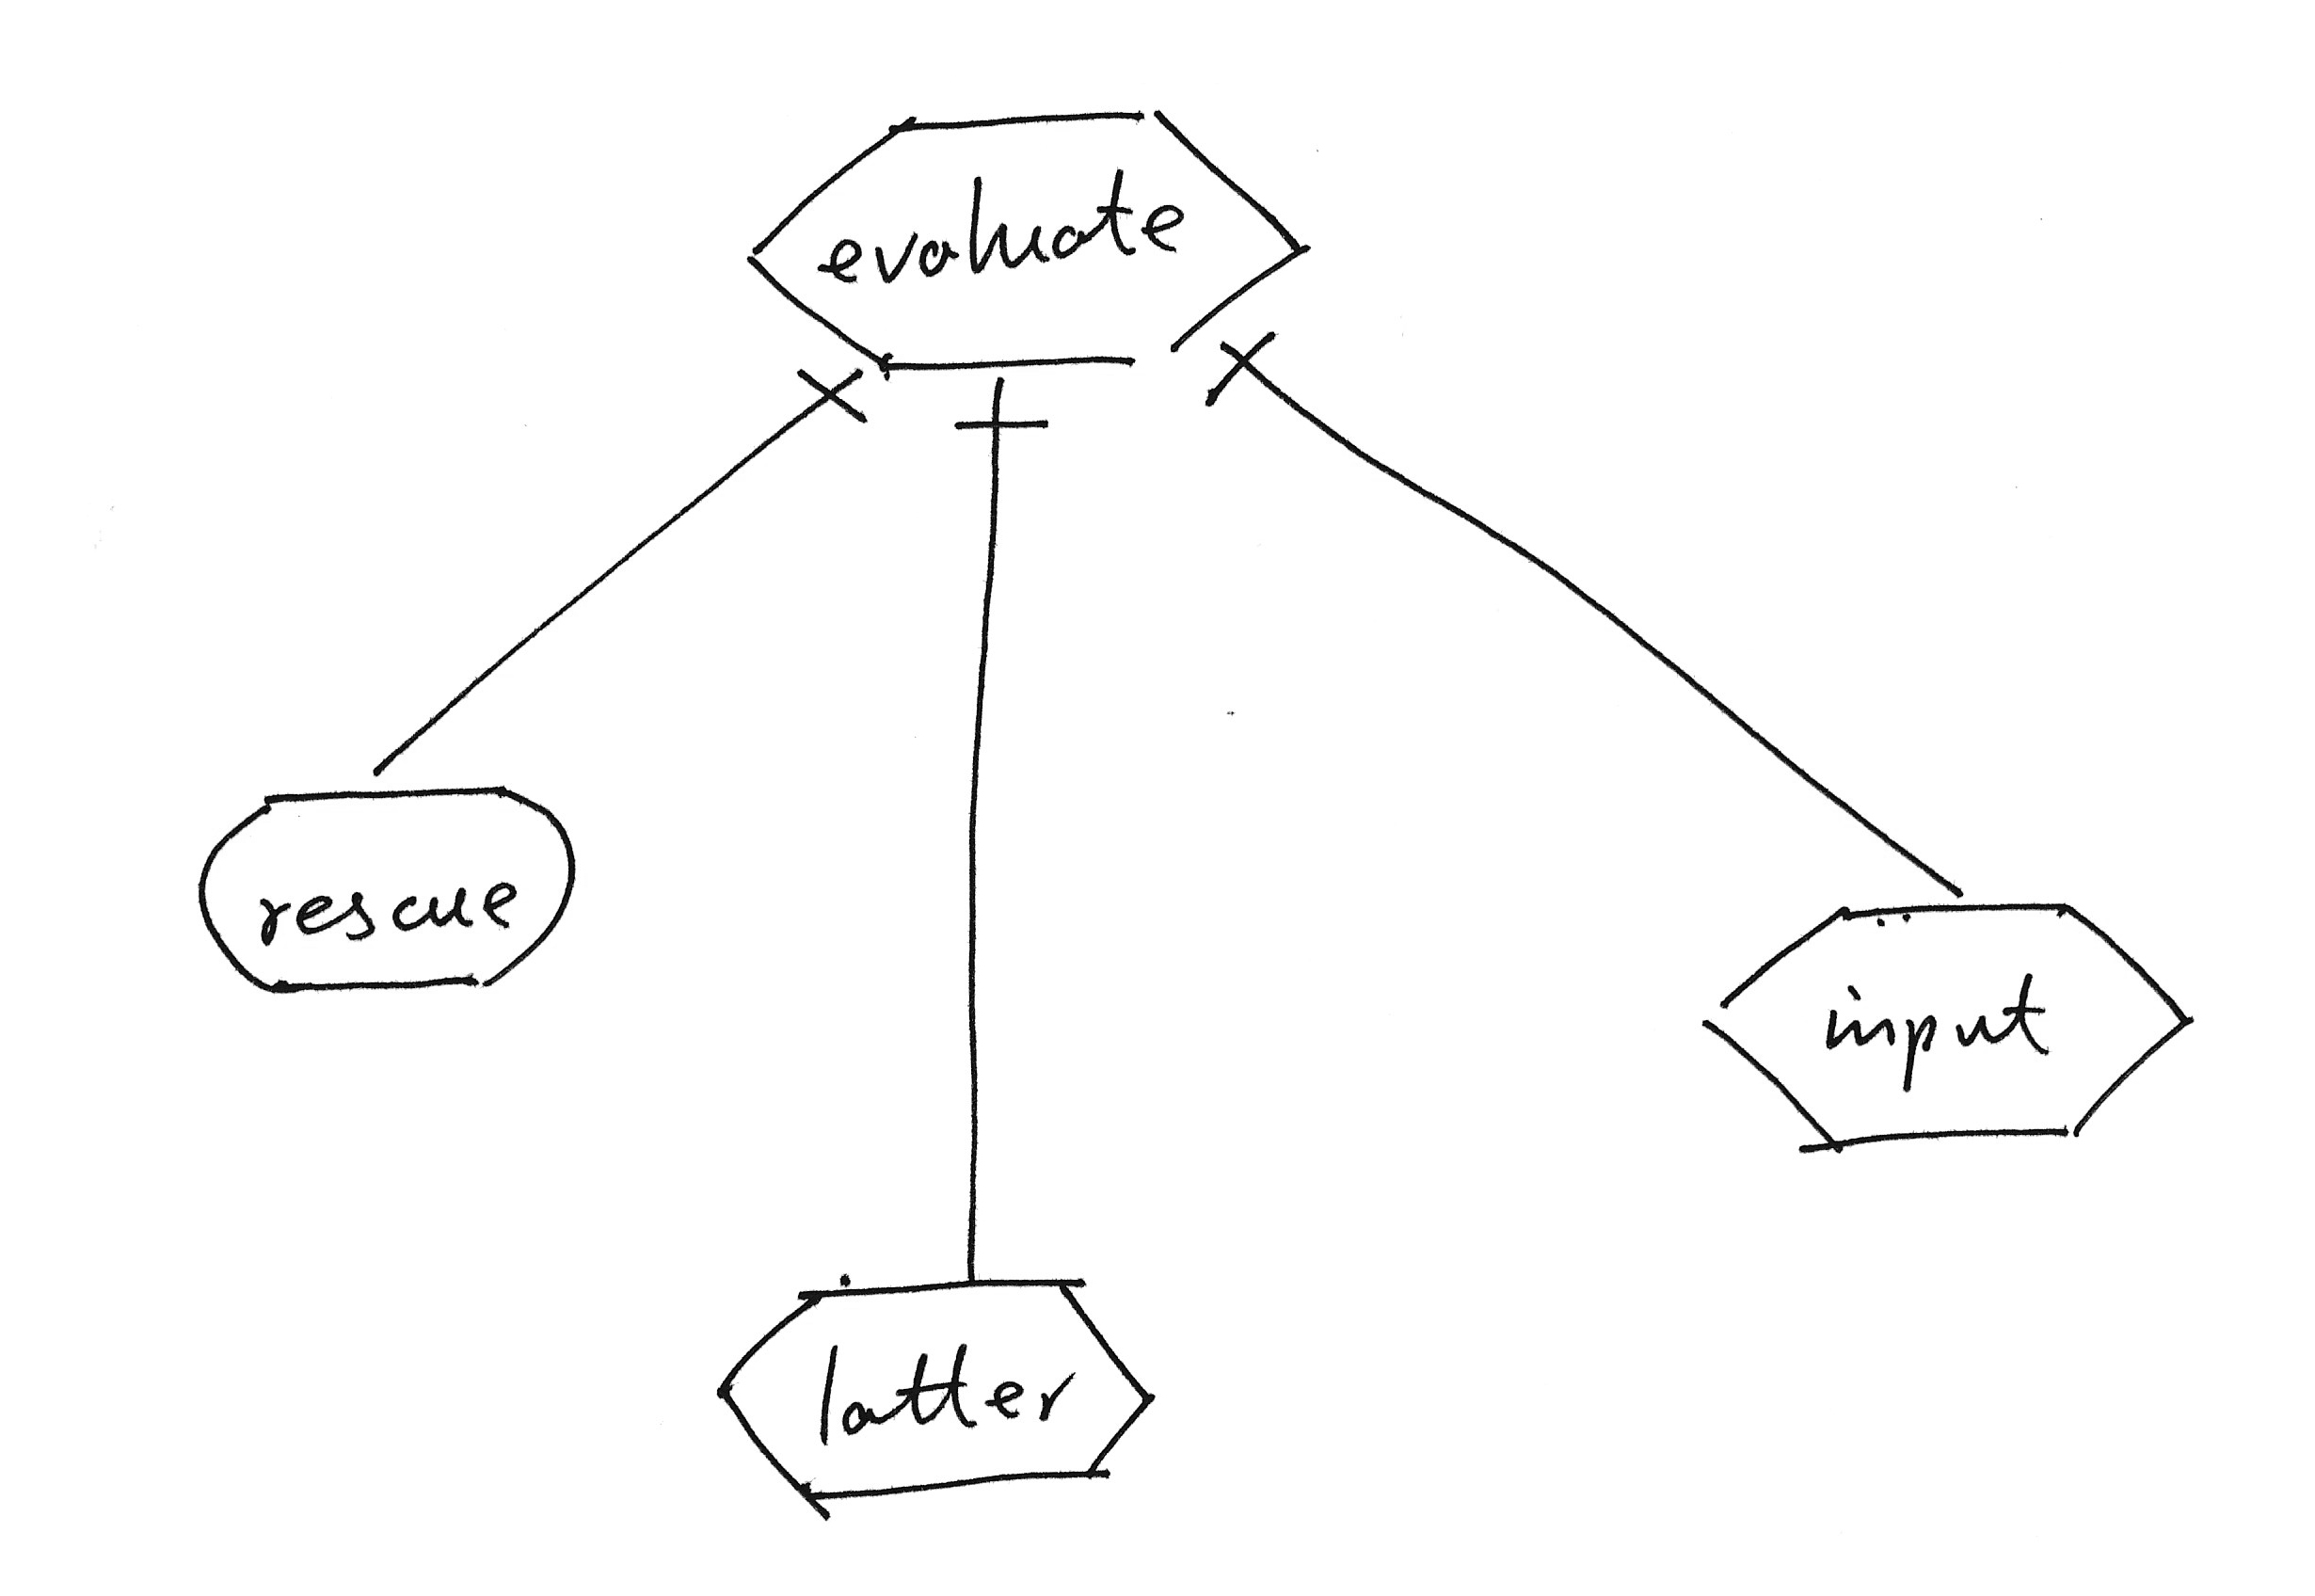and: (1184, 313, 1300, 426), (945, 359, 1061, 468), (790, 350, 880, 440)
goal: (174, 764, 596, 1012)
task: (730, 90, 1337, 394), (1691, 882, 2204, 1170), (695, 1256, 1175, 1526)
